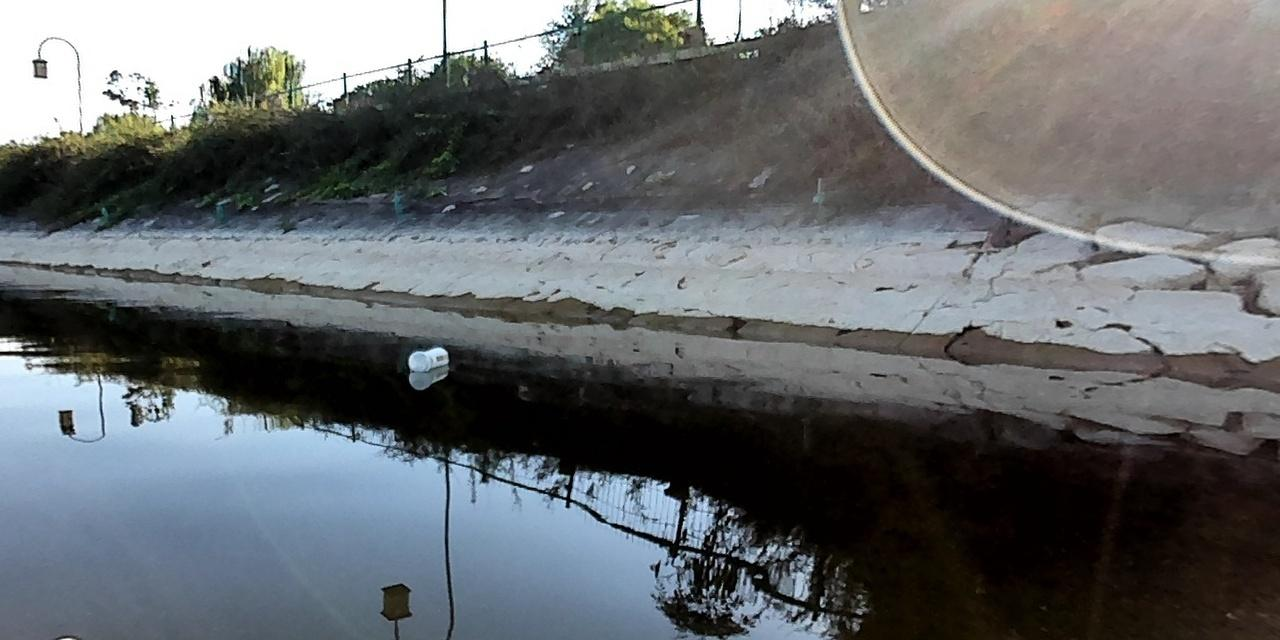bottle: (406, 341, 457, 373)
